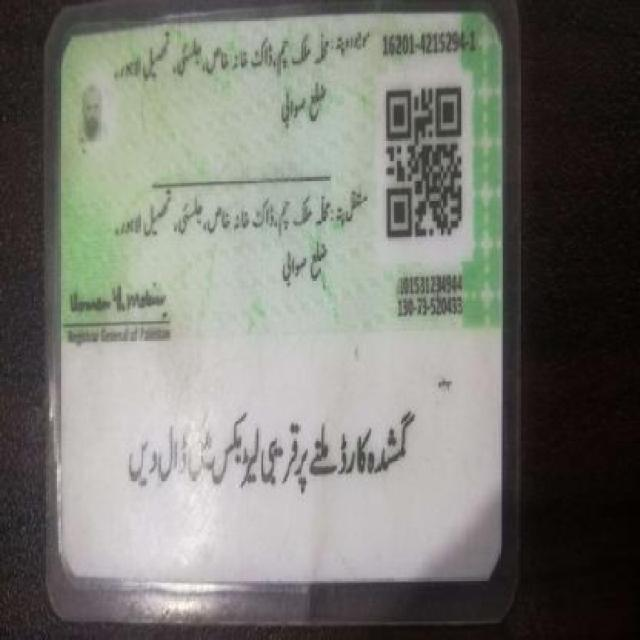Back: (43, 20, 508, 589)
